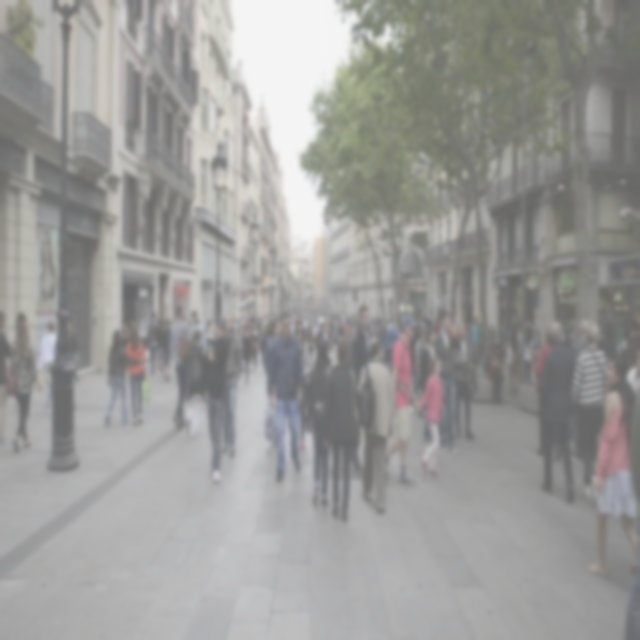pessoa: (584, 350, 640, 582), (534, 317, 578, 507), (566, 317, 610, 503), (322, 334, 362, 524), (468, 314, 551, 398), (356, 336, 394, 516), (266, 308, 304, 484), (386, 314, 422, 490), (257, 308, 359, 370), (5, 316, 44, 455), (200, 313, 230, 484), (305, 336, 333, 507), (417, 353, 445, 480), (166, 302, 193, 432), (449, 318, 476, 442), (222, 312, 244, 457), (434, 310, 456, 454), (102, 328, 132, 428), (184, 327, 208, 440), (348, 302, 376, 398), (418, 327, 438, 457), (294, 318, 312, 454), (34, 218, 59, 314), (124, 323, 146, 428), (262, 316, 283, 422), (37, 318, 58, 418), (616, 314, 640, 398), (368, 312, 401, 370), (414, 337, 436, 419), (0, 310, 13, 446), (184, 308, 216, 356), (630, 396, 640, 512), (559, 316, 590, 352), (155, 314, 173, 372), (65, 318, 80, 386), (146, 310, 160, 378), (240, 318, 254, 386), (417, 312, 440, 339), (12, 310, 28, 346), (449, 318, 461, 350), (252, 322, 260, 369), (232, 313, 244, 340), (247, 312, 258, 328)
